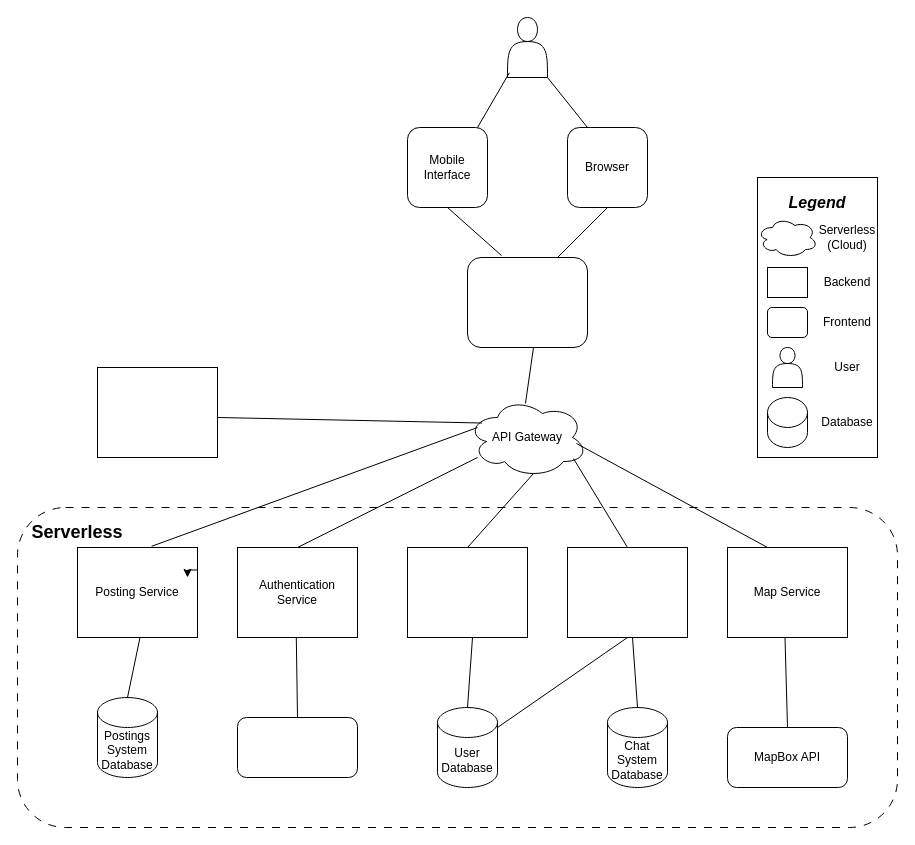
Image size: 915x845. Some labels were removed from this diagram. The centre of each missing label's shape, as x and y in pixels:
Analytics of Application: point (157, 412)
Auth0 API: point (297, 747)
Chat System Service: point (627, 592)
Frontend Interface: point (527, 302)
User Account Service: point (467, 592)
